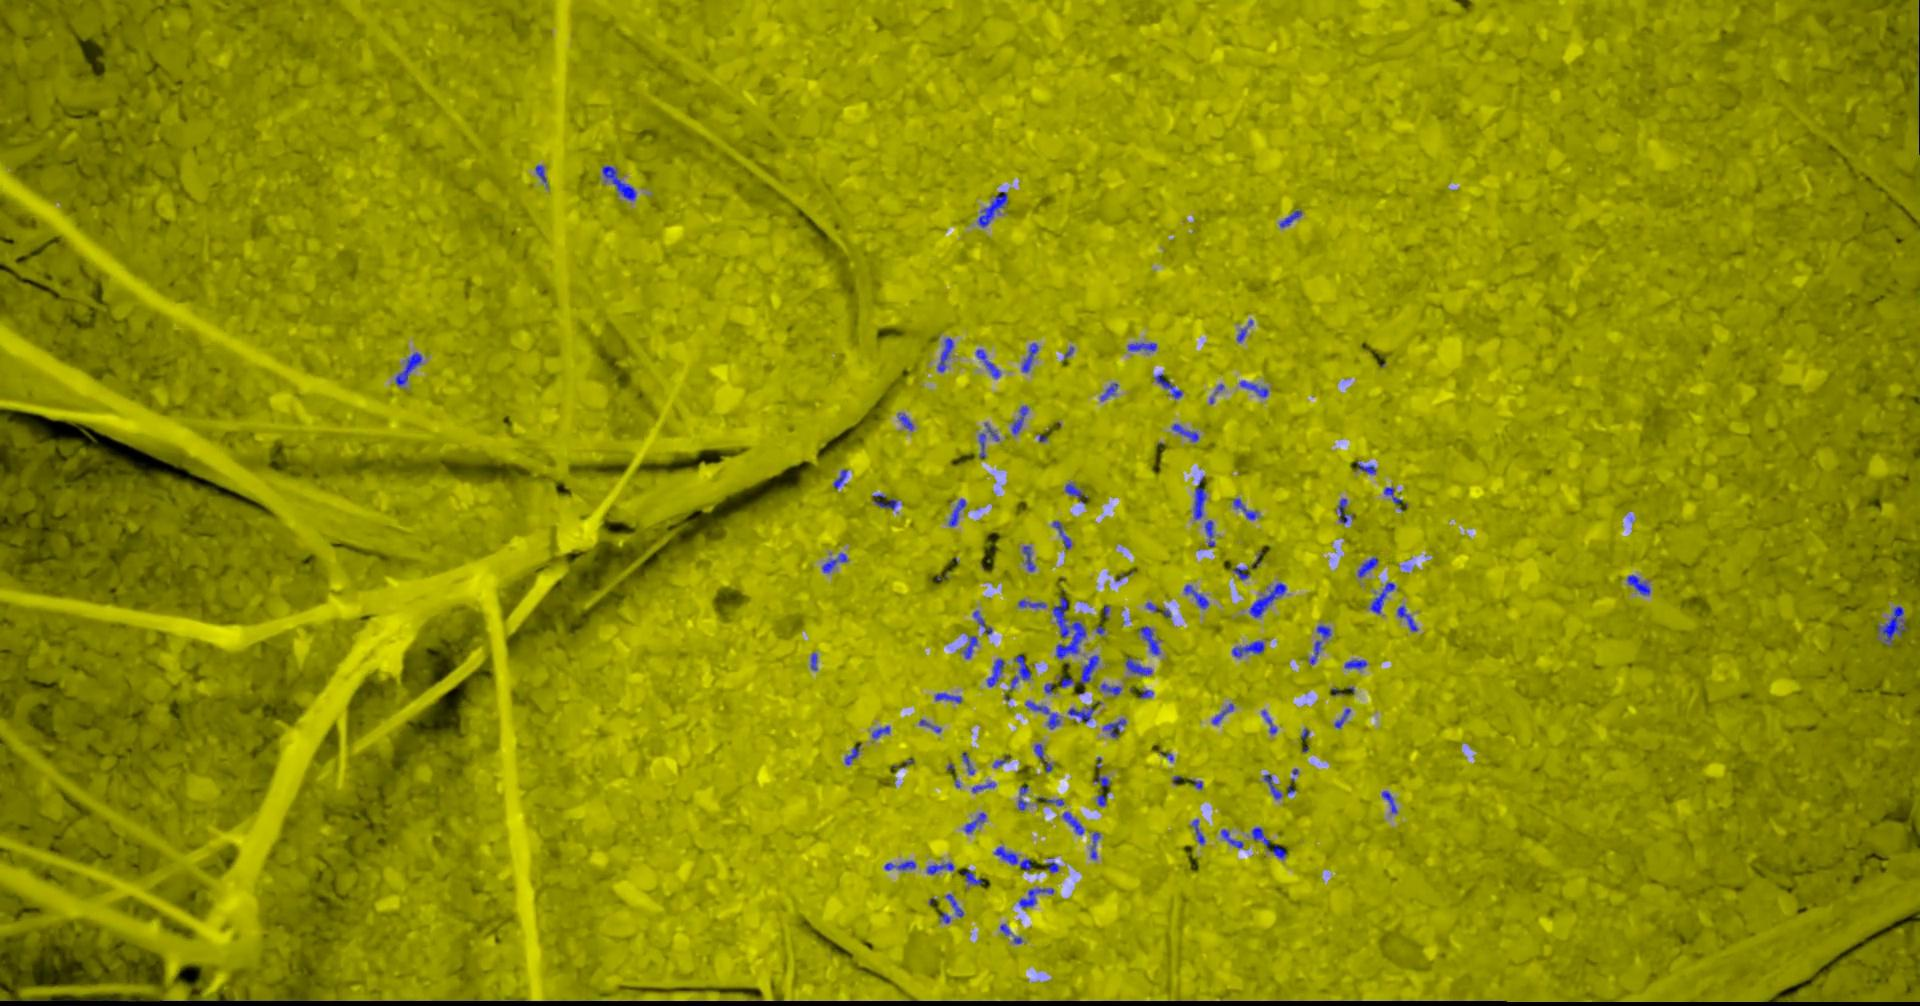ant: (1054, 594, 1087, 658), (1251, 582, 1288, 617), (604, 165, 637, 199), (979, 191, 1010, 227), (1878, 606, 1909, 641), (1253, 827, 1288, 857), (1027, 700, 1062, 728), (996, 846, 1034, 870), (396, 352, 423, 385), (1371, 582, 1396, 614), (1012, 654, 1032, 690), (977, 349, 1001, 379), (1020, 888, 1055, 907), (1156, 373, 1183, 398), (1185, 584, 1210, 608), (1140, 626, 1161, 655), (938, 337, 955, 371), (1195, 476, 1208, 520), (1095, 774, 1111, 807), (1398, 605, 1418, 631), (1054, 520, 1073, 547), (1081, 655, 1100, 683), (1233, 640, 1265, 657), (1241, 380, 1270, 398), (823, 553, 850, 572), (950, 498, 968, 526), (988, 658, 1006, 686), (1236, 498, 1258, 520), (1213, 702, 1236, 724), (1628, 574, 1652, 594), (1064, 810, 1084, 835), (1128, 655, 1153, 674), (1173, 423, 1200, 441), (1065, 483, 1088, 503), (974, 610, 993, 634), (1023, 343, 1039, 372), (1013, 405, 1029, 434), (965, 812, 987, 832), (1105, 718, 1128, 737), (1265, 774, 1283, 798), (947, 893, 965, 917), (1338, 498, 1355, 523), (1069, 705, 1095, 721), (1359, 556, 1379, 577), (1222, 829, 1244, 847), (874, 494, 899, 509), (1281, 210, 1303, 227), (1383, 790, 1398, 813), (1023, 545, 1036, 572), (846, 743, 862, 763), (963, 869, 984, 884), (965, 635, 979, 658), (1263, 710, 1277, 733), (1385, 486, 1403, 504), (1336, 708, 1352, 727), (1310, 640, 1323, 664), (1194, 819, 1206, 843), (928, 862, 955, 874), (973, 781, 997, 793), (964, 752, 977, 774), (1102, 384, 1119, 400), (1206, 520, 1217, 546), (936, 692, 963, 702), (886, 860, 917, 869), (834, 469, 848, 488), (1129, 342, 1158, 351), (899, 413, 914, 429), (1018, 786, 1029, 810), (872, 725, 891, 738), (1092, 832, 1101, 859), (1102, 683, 1123, 695), (1018, 600, 1048, 607), (1346, 659, 1368, 669), (1357, 461, 1377, 473), (1234, 567, 1251, 579), (537, 164, 549, 182), (1035, 743, 1046, 761), (1318, 625, 1332, 639), (1048, 857, 1060, 873), (980, 433, 987, 459), (1060, 676, 1076, 686)
